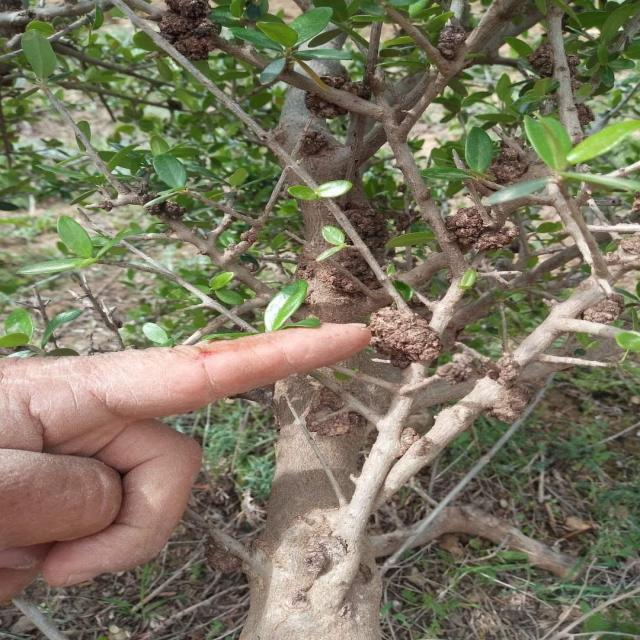Tuberculosis: (369, 307, 441, 369), (158, 0, 217, 60), (446, 205, 519, 252), (306, 387, 362, 442), (340, 200, 389, 257), (489, 380, 536, 424), (487, 141, 528, 185), (581, 294, 624, 325), (320, 75, 372, 99), (305, 91, 348, 120), (436, 353, 474, 384), (437, 24, 466, 60), (528, 43, 553, 79), (299, 130, 332, 157), (395, 427, 421, 461), (145, 199, 185, 221), (567, 53, 584, 83)
